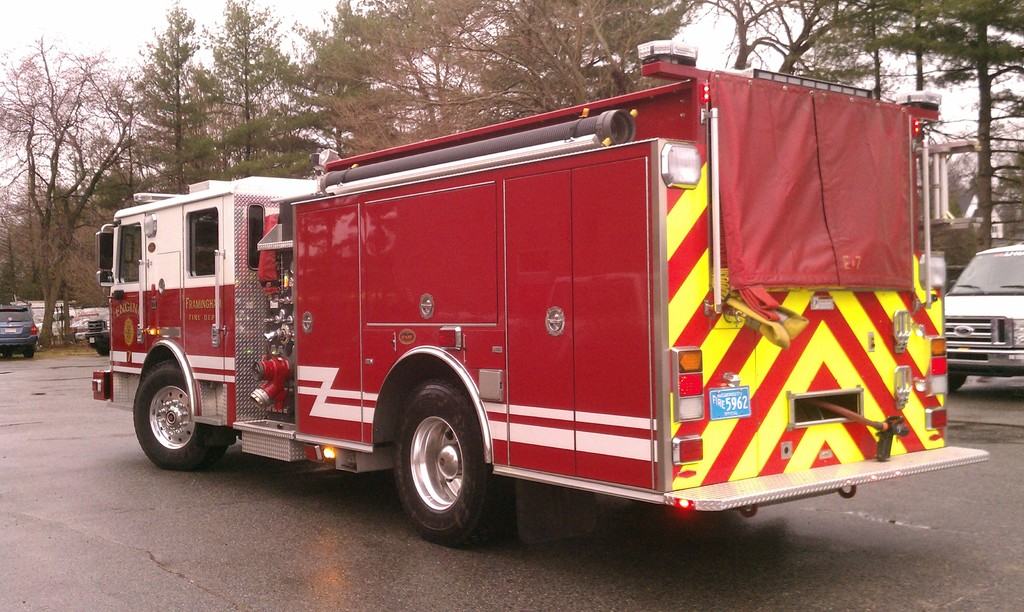Car: (933, 248, 1024, 395), (0, 300, 39, 357), (80, 320, 106, 357)
